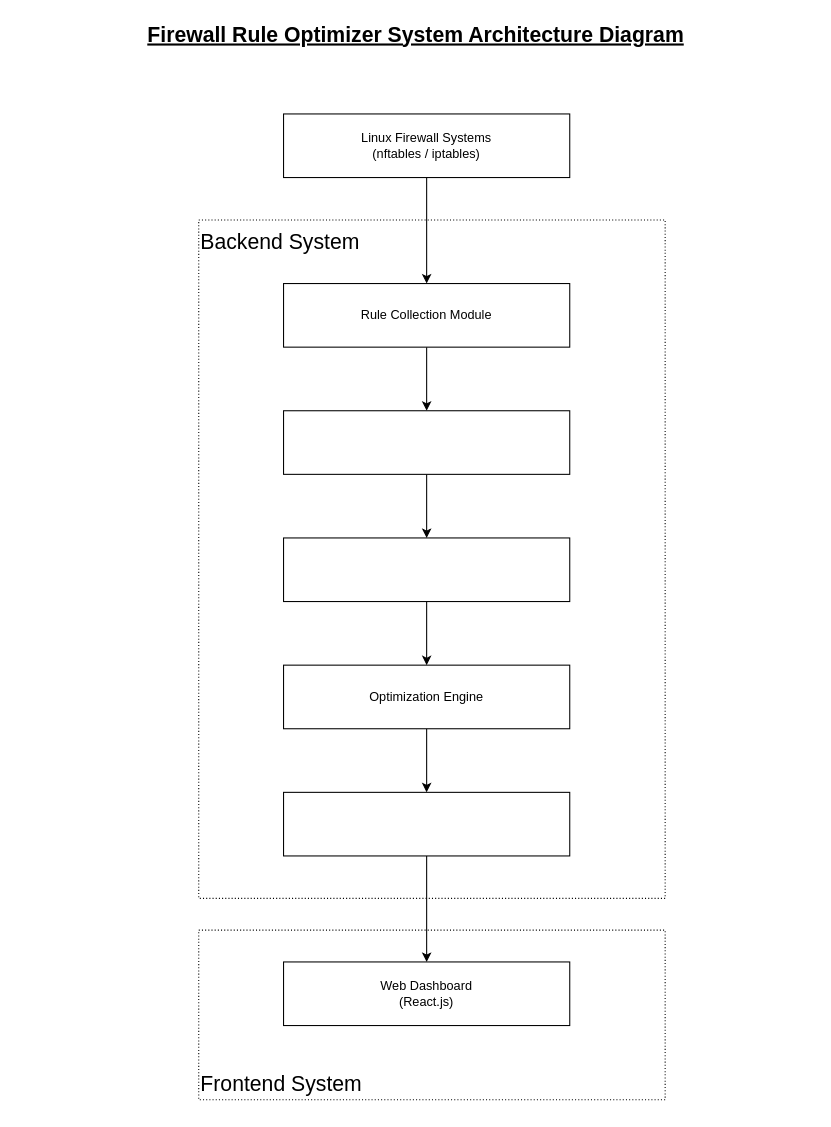
Some shapes in this 831 by 1127 pixel diagram are drawn without their labels. Each missing label, with the box of its shape:
Anomaly Detection Engine: (282, 537, 570, 602)
Backend Server (Django + SQLite): (282, 791, 570, 856)
Rule Parser & Normalization Module: (282, 410, 570, 474)
